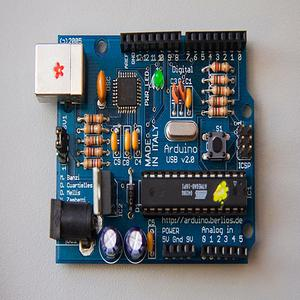duino: (32, 16, 270, 282)
